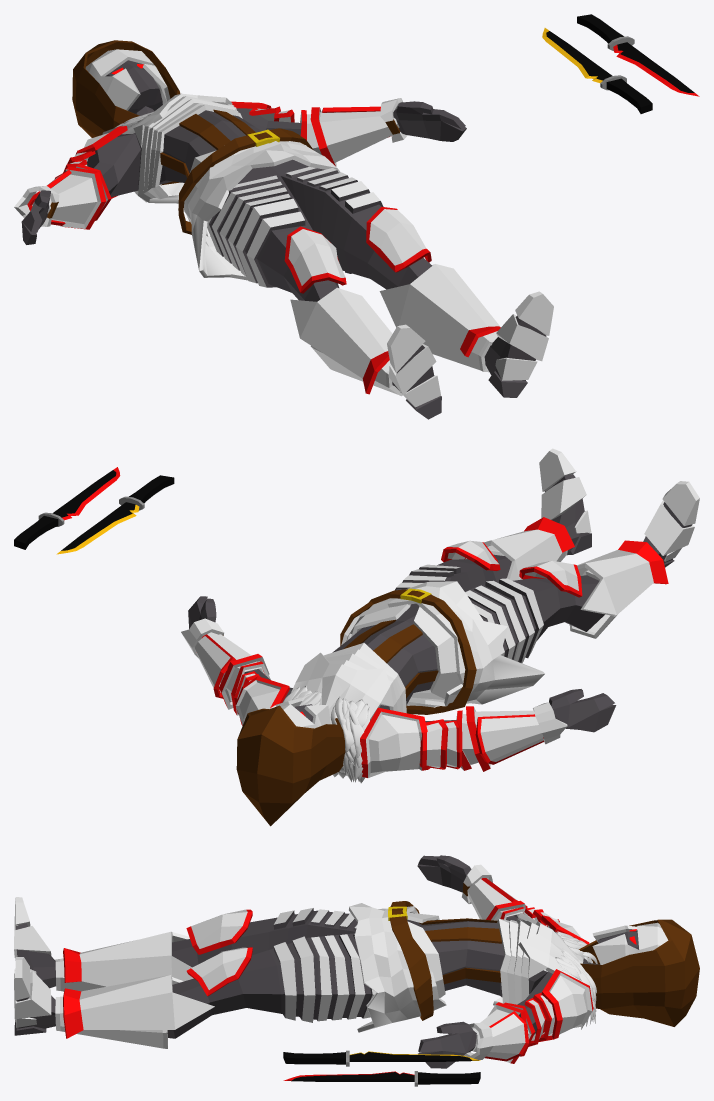
The model's file is Kleid.fbx.
The picture shows the model from 3 angles, top to bottom: view 1: azimuth 30°, elevation 25°; view 2: azimuth 150°, elevation 25°; view 3: azimuth 270°, elevation 25°; orthographic projection. The views are drawn at different scales.
Visible parts, largest first — view 1: assassin, Cylinder, Cylinder.001; view 2: assassin, Cylinder.001, Cylinder; view 3: assassin, Cylinder.001, Cylinder.
Boxes of the visible parts, x1,y1,x2,y2 form: assassin: (14, 40, 553, 419); Cylinder: (577, 14, 699, 96); Cylinder.001: (542, 28, 652, 113); assassin: (181, 448, 699, 826); Cylinder.001: (56, 475, 174, 554); Cylinder: (14, 467, 120, 549); assassin: (14, 855, 699, 1068); Cylinder.001: (283, 1050, 480, 1066); Cylinder: (283, 1071, 480, 1086).
Size of the model in its own units: 159 by 32.84 by 174.
